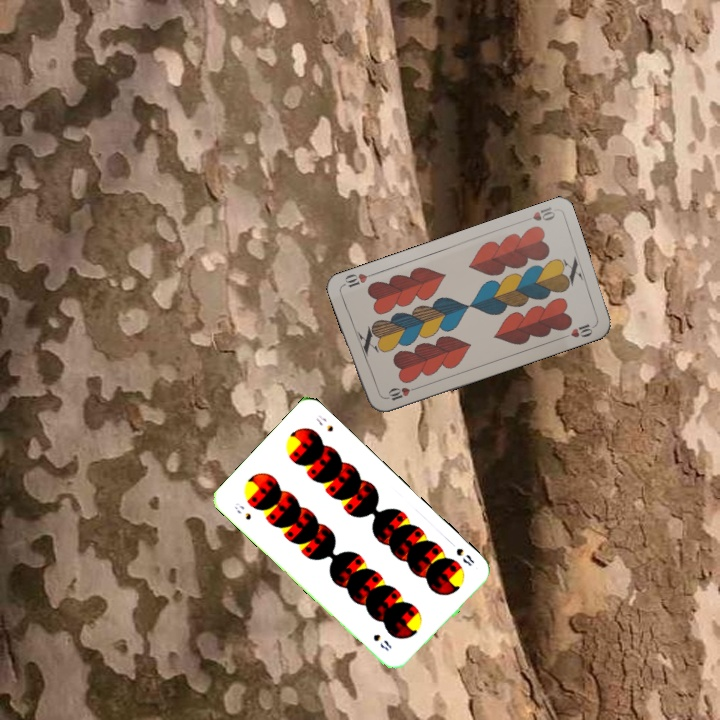H10: (380, 383, 419, 403), (528, 203, 558, 224)
S8: (452, 544, 477, 569), (230, 499, 254, 522)
